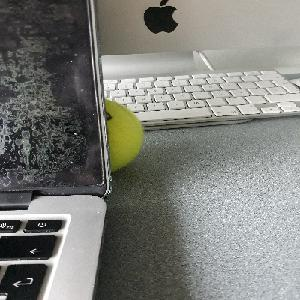Ball: (103, 99, 143, 175)
